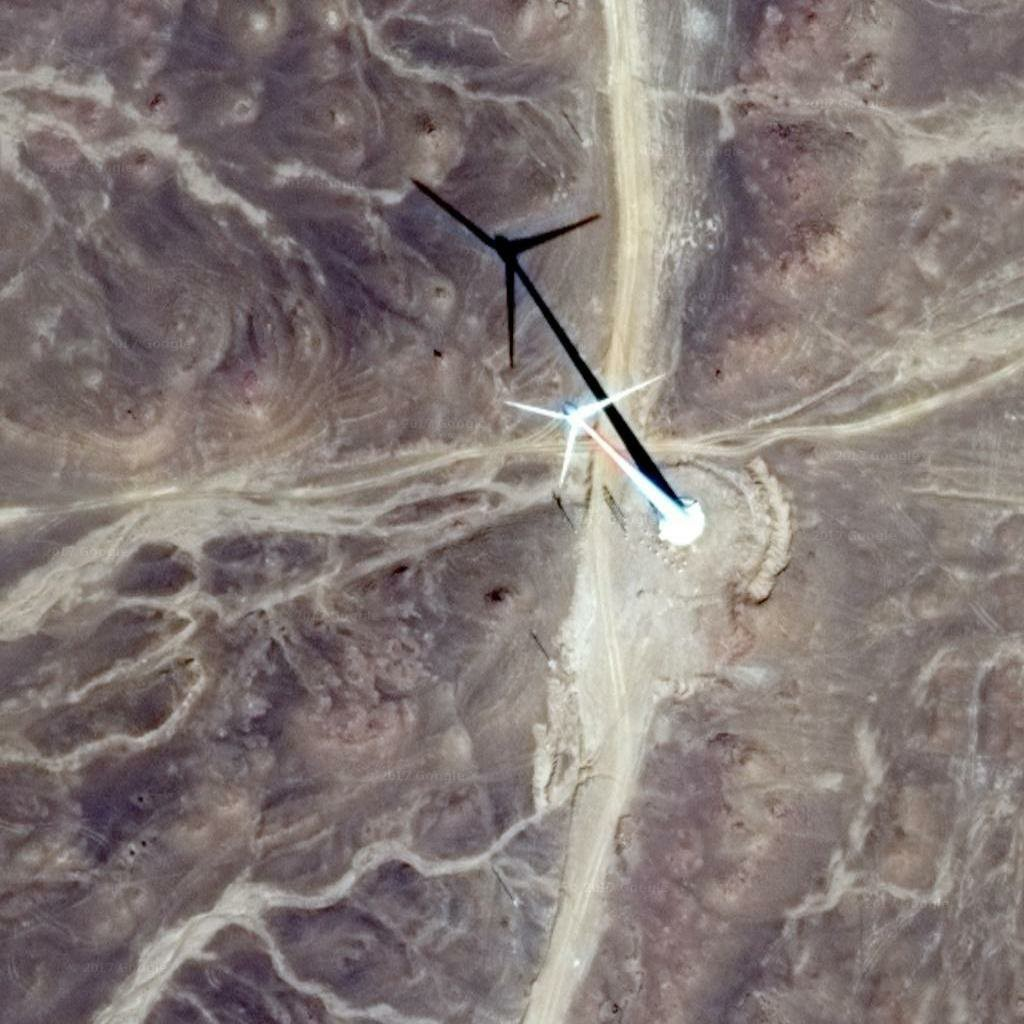Windmill: (411, 183, 690, 505)
